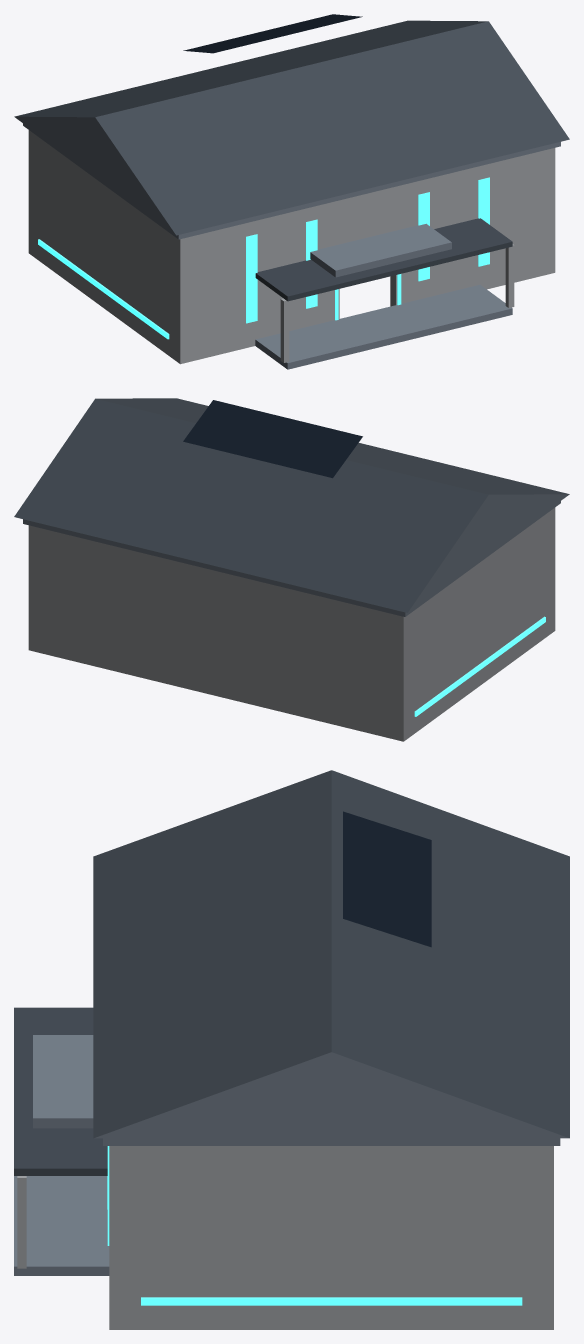
The model's file is shaddai_dist_suburb_b1_v01.glb.
3 views of the same model, one above another, from view 1: azimuth 30°, elevation 25°; view 2: azimuth 150°, elevation 25°; view 3: azimuth 270°, elevation 25° (orthographic). The views are drawn at different scales.
Visible parts, largest first — view 1: shaddai_dist_suburb_b1; view 2: shaddai_dist_suburb_b1; view 3: shaddai_dist_suburb_b1.
Part boxes in pixels (x1,y1,x2,y2): shaddai_dist_suburb_b1: (14, 14, 569, 369); shaddai_dist_suburb_b1: (14, 398, 569, 741); shaddai_dist_suburb_b1: (14, 770, 569, 1329).
Bounding box in the file's own units: 21 × 11.48 × 17.5.
